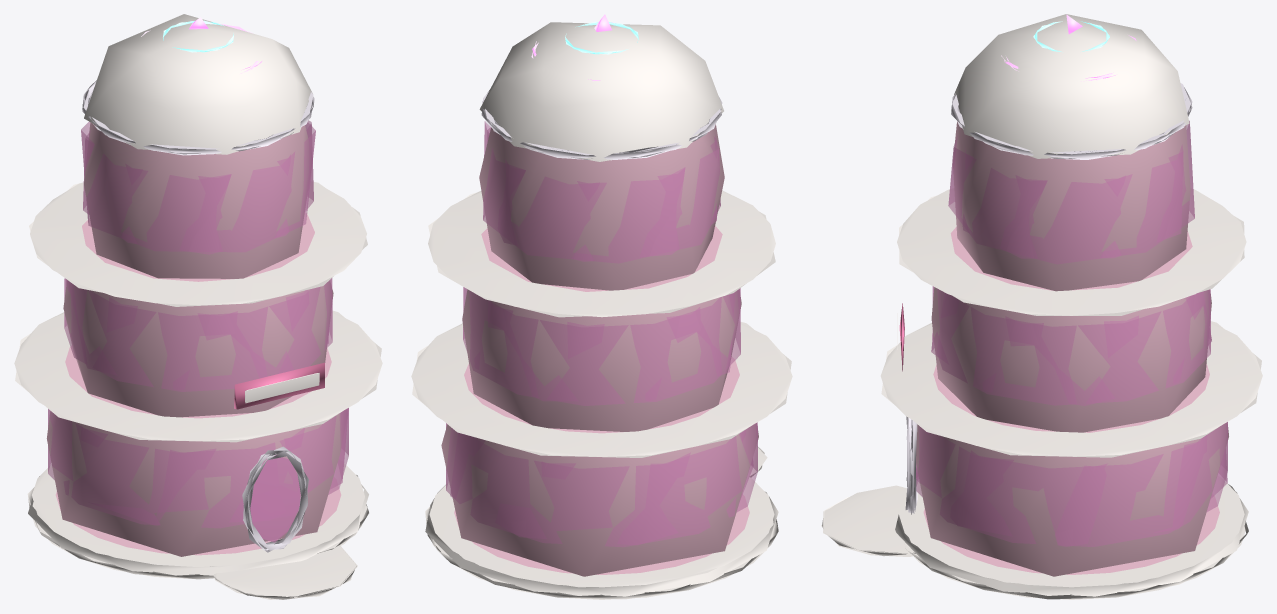
File: lod_building_bubble.glb
The picture shows the model from 3 angles, left to right: view 1: azimuth 30°, elevation 25°; view 2: azimuth 150°, elevation 25°; view 3: azimuth 270°, elevation 25°; orthographic projection. The views are drawn at different scales.
Parts seen in each view (by area): view 1: building_bubble; view 2: building_bubble; view 3: building_bubble.
Part boxes in pixels (left/top/right/bottom): building_bubble: left=14, top=14, right=382, bottom=599; building_bubble: left=411, top=14, right=792, bottom=599; building_bubble: left=821, top=14, right=1262, bottom=599.
Bounding box in the file's own units: 7.74 × 11.42 × 8.94.
